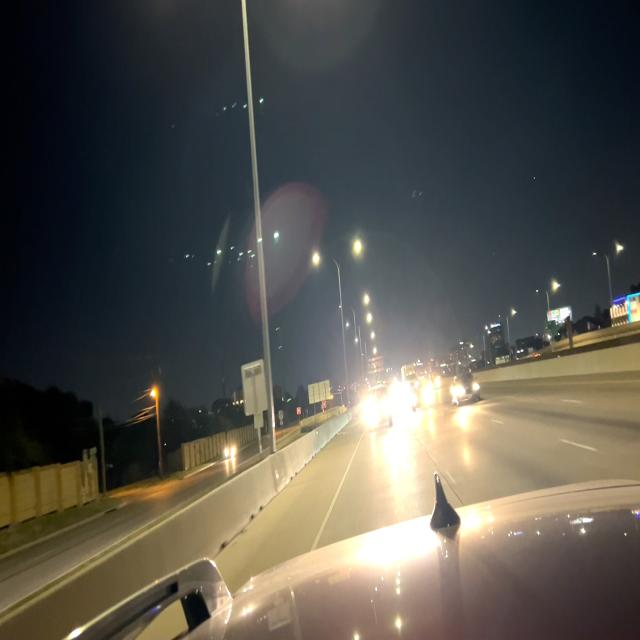back-of-sign: (241, 360, 268, 430), (308, 377, 331, 404), (367, 355, 384, 374)
